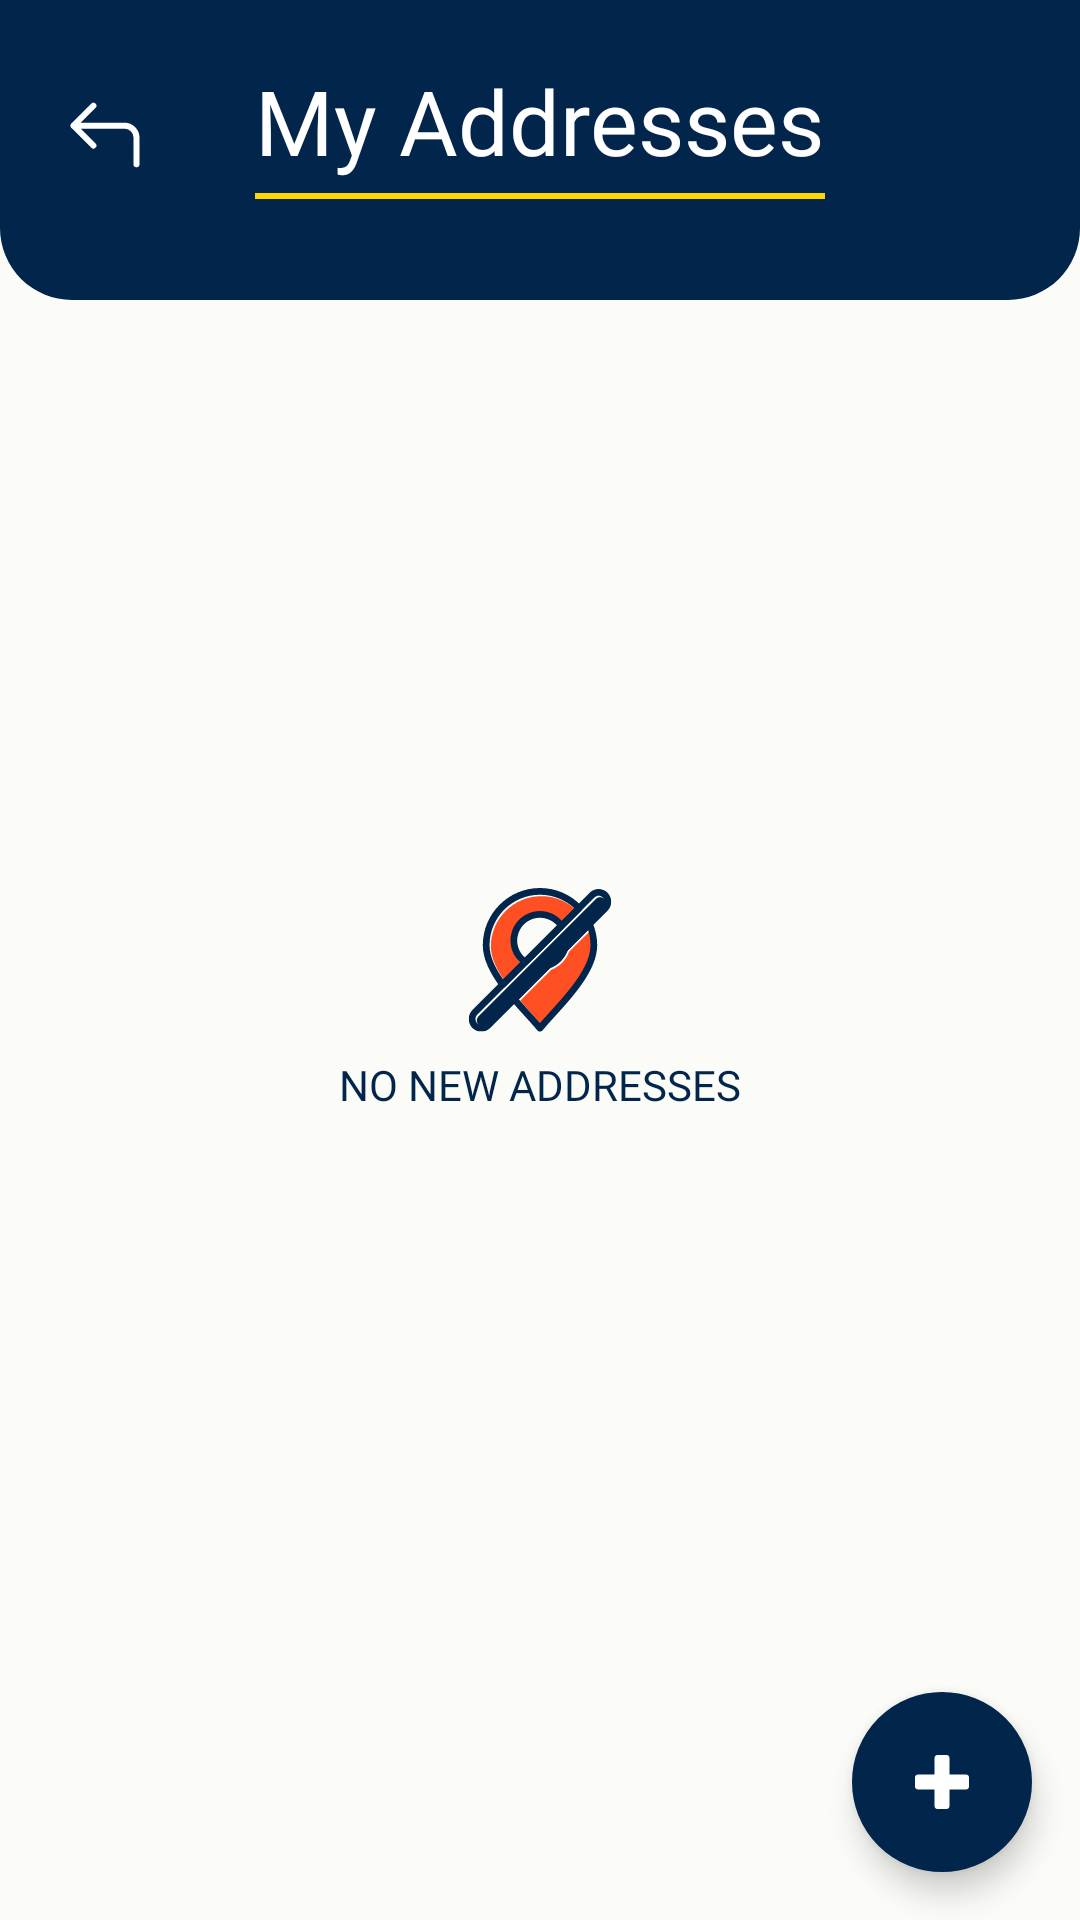

Where to tap for icons on this 1080px x 1920px app screen, as point (x, y):
Add Address: point (942, 1782)
back: point (105, 135)
no address: point (540, 960)
